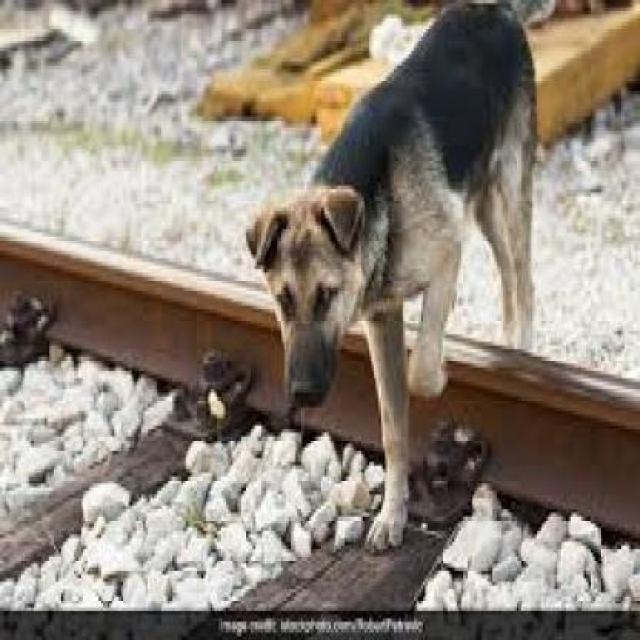rail: (1, 206, 633, 616)
